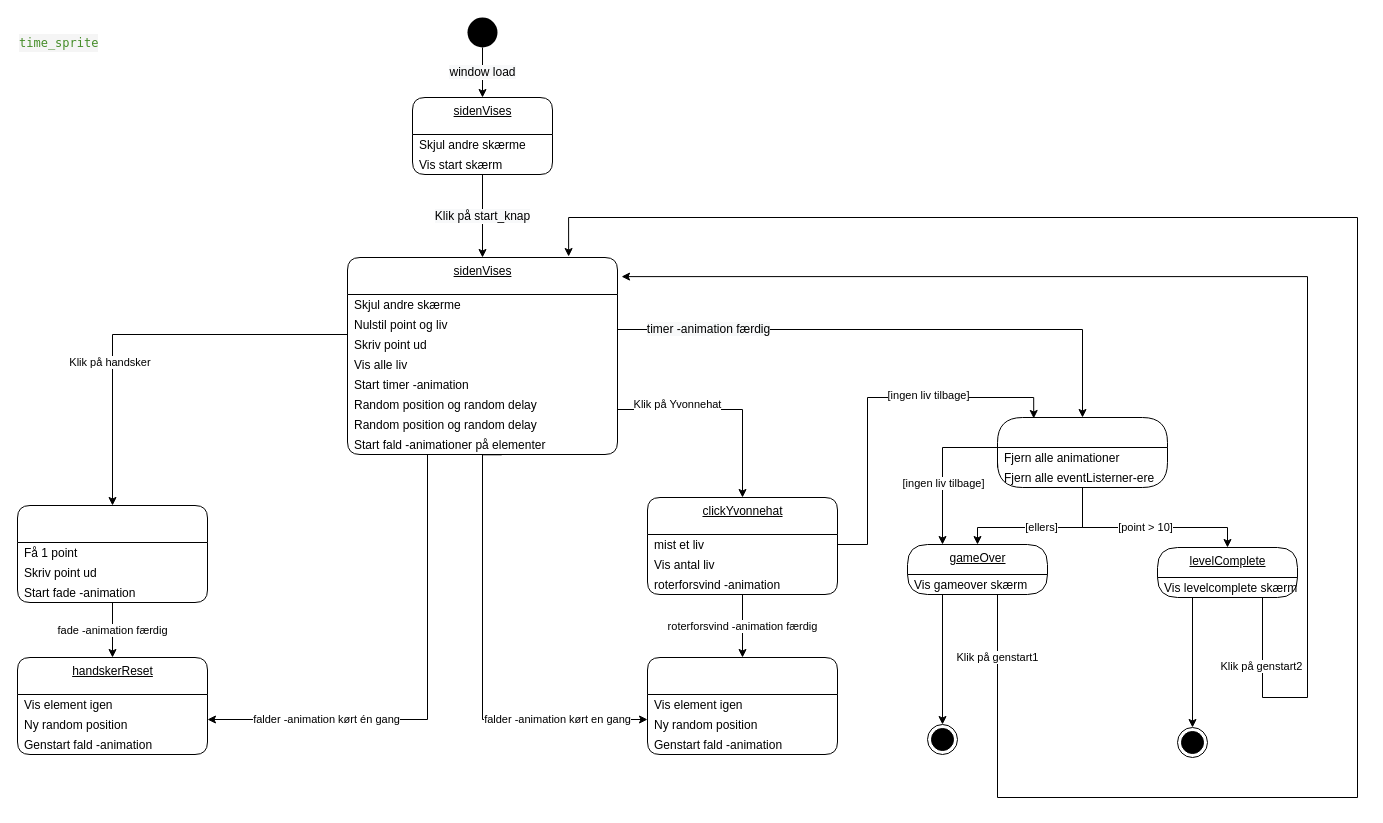
Some shapes in this 1383 by 823 pixel diagram are drawn without their labels. Each missing label, with the box of its shape:
clickHandsker: (16, 504, 208, 602)
stopSpillet: (996, 416, 1168, 488)
yvonnehatReset: (646, 656, 838, 754)
